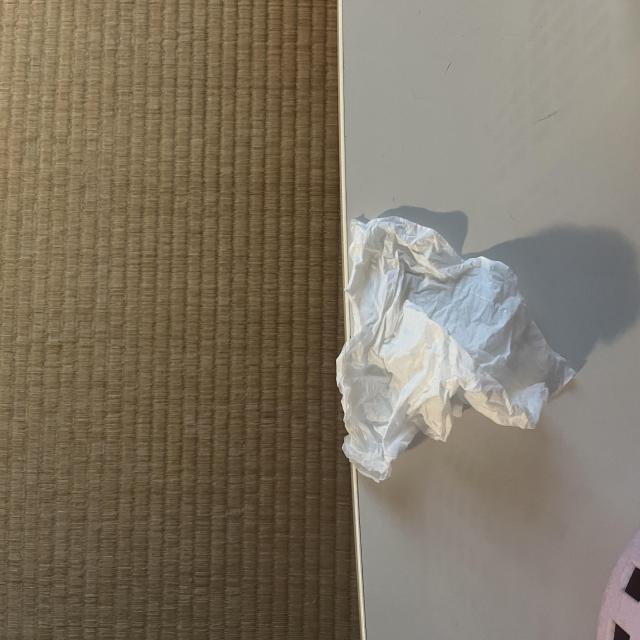Paper: (326, 198, 581, 494)
